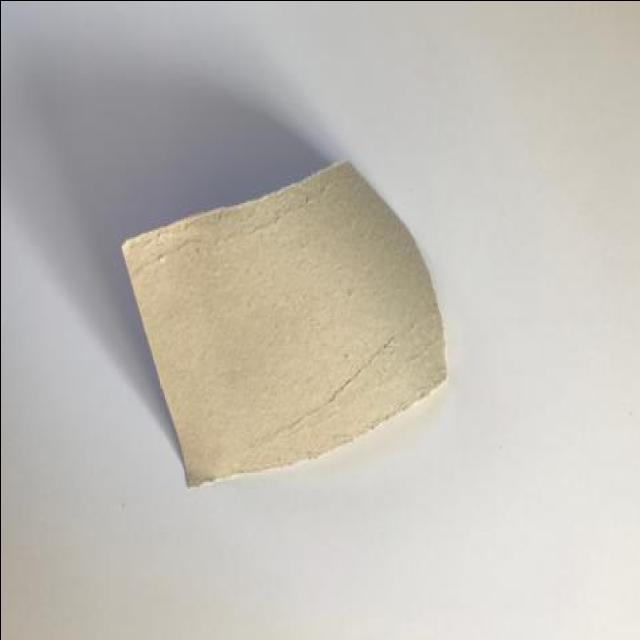kertas: (112, 157, 452, 488)
